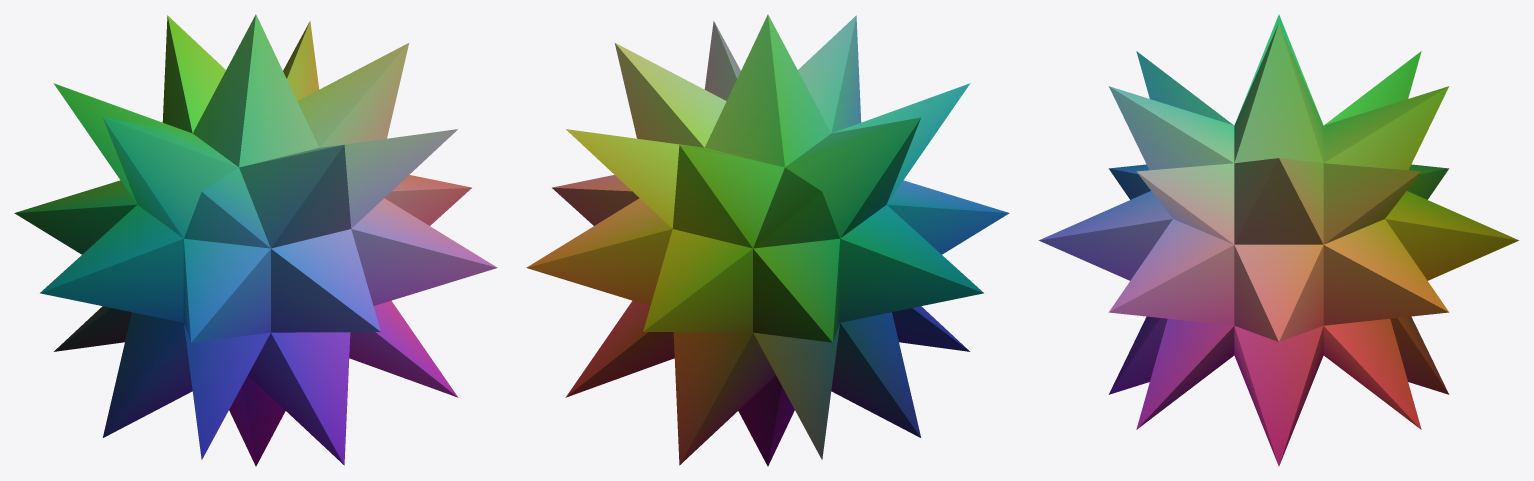
Rendered from zeometry-stars-spikes-spiky-star_v6.glb.
3 renders of one model, left to right at view 1: azimuth 30°, elevation 25°; view 2: azimuth 150°, elevation 25°; view 3: azimuth 270°, elevation 25°, orthographic. The views are drawn at different scales.
Parts seen in each view (by area): view 1: Spiky Star_v6; view 2: Spiky Star_v6; view 3: Spiky Star_v6.
Part boxes in pixels (box(x1,y1,x2,y2)): Spiky Star_v6: box(14, 14, 497, 466); Spiky Star_v6: box(526, 14, 1009, 466); Spiky Star_v6: box(1038, 14, 1519, 466).
Size of the model in its own units: 0.5 by 0.5 by 0.5.
